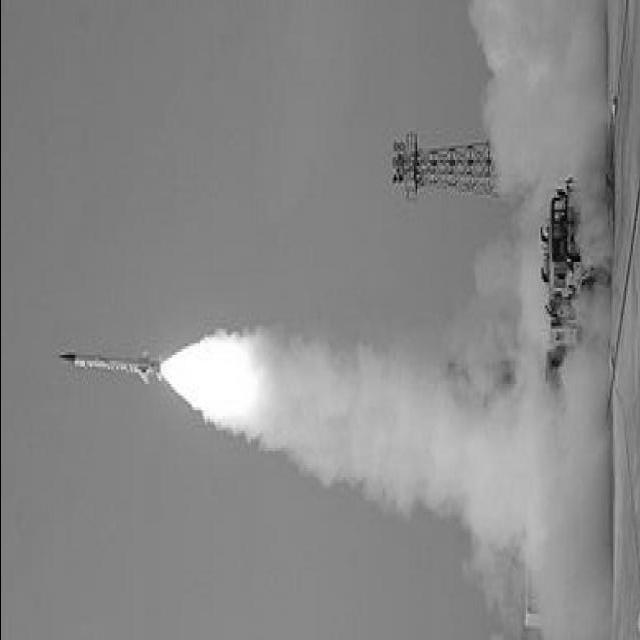missile: (50, 339, 156, 393)
